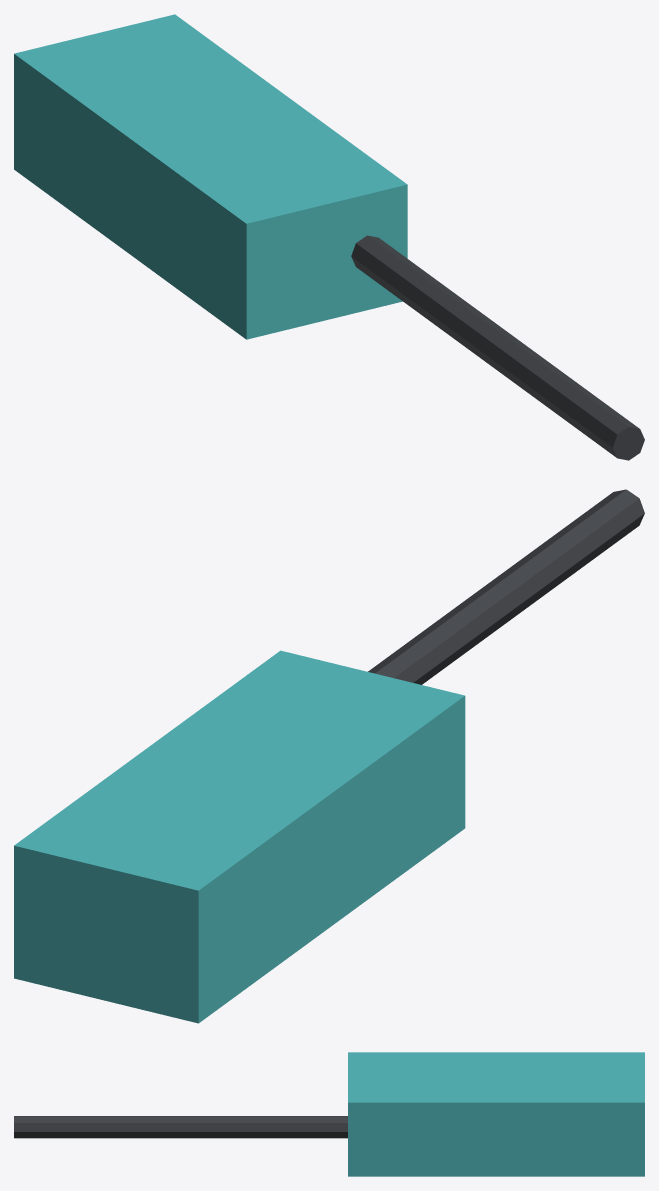
The picture shows the model from 3 angles, top to bottom: view 1: azimuth 30°, elevation 25°; view 2: azimuth 150°, elevation 25°; view 3: azimuth 270°, elevation 25°; orthographic projection. The views are drawn at different scales.
Parts seen in each view (by area): view 1: geometry_0; view 2: geometry_0; view 3: geometry_0.
Part boxes in pixels (x1,y1,x2,y2): geometry_0: [14, 14, 644, 460]; geometry_0: [14, 489, 644, 1023]; geometry_0: [14, 1052, 644, 1176].
Size of the model in its own units: 0.08 by 0.055 by 0.425.
